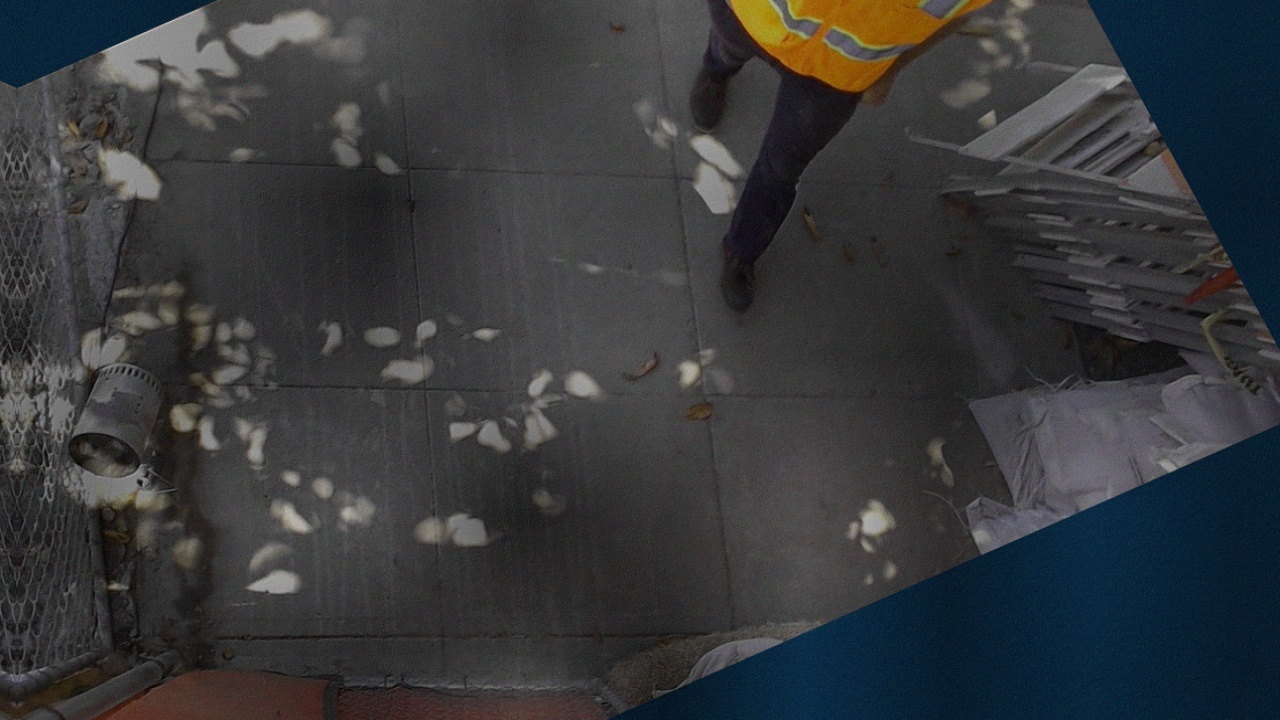person: (673, 1, 982, 335)
safetyvest: (727, 1, 980, 101)
